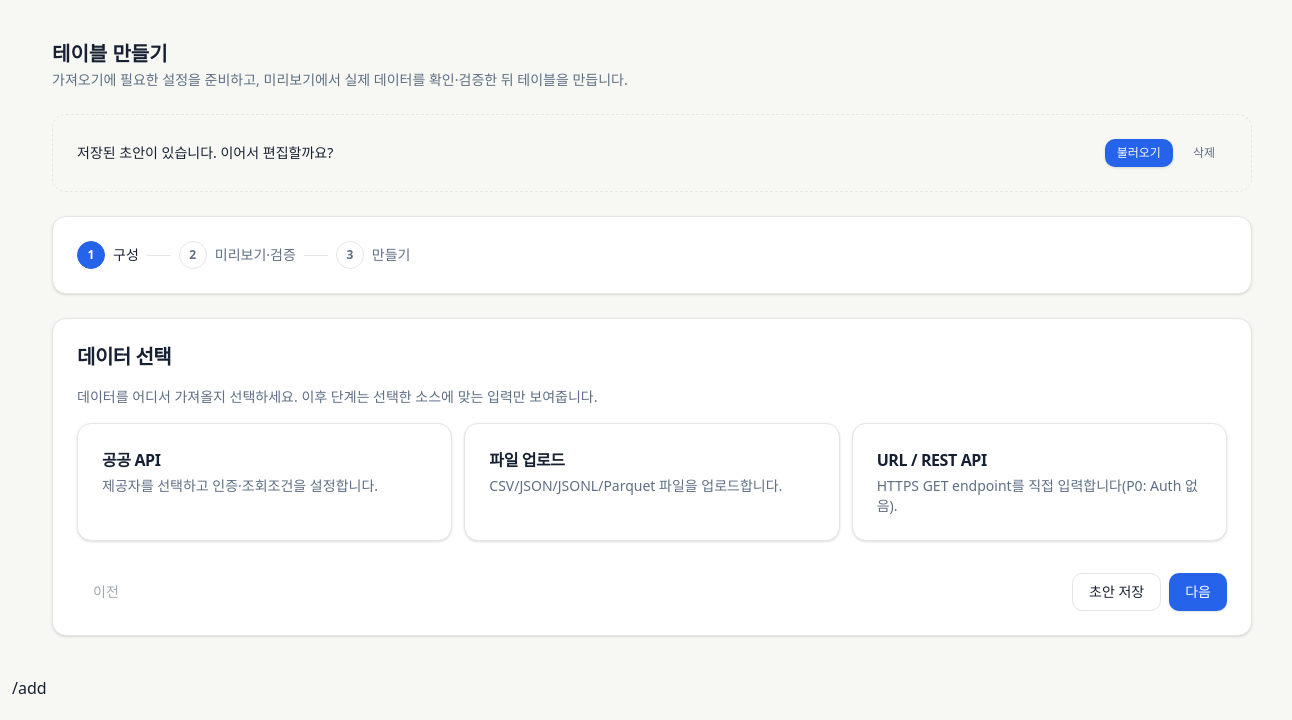
Test: one table creation flow (#534) › an Ask KPubData draft that cannot become a spec is kept, not lost (#534 review) › a partial draft: load → draft still there and error shown
The image size is (1292, 720).
Click the button "불러오기".
click(1139, 153)  # box [1105, 139, 1173, 167]
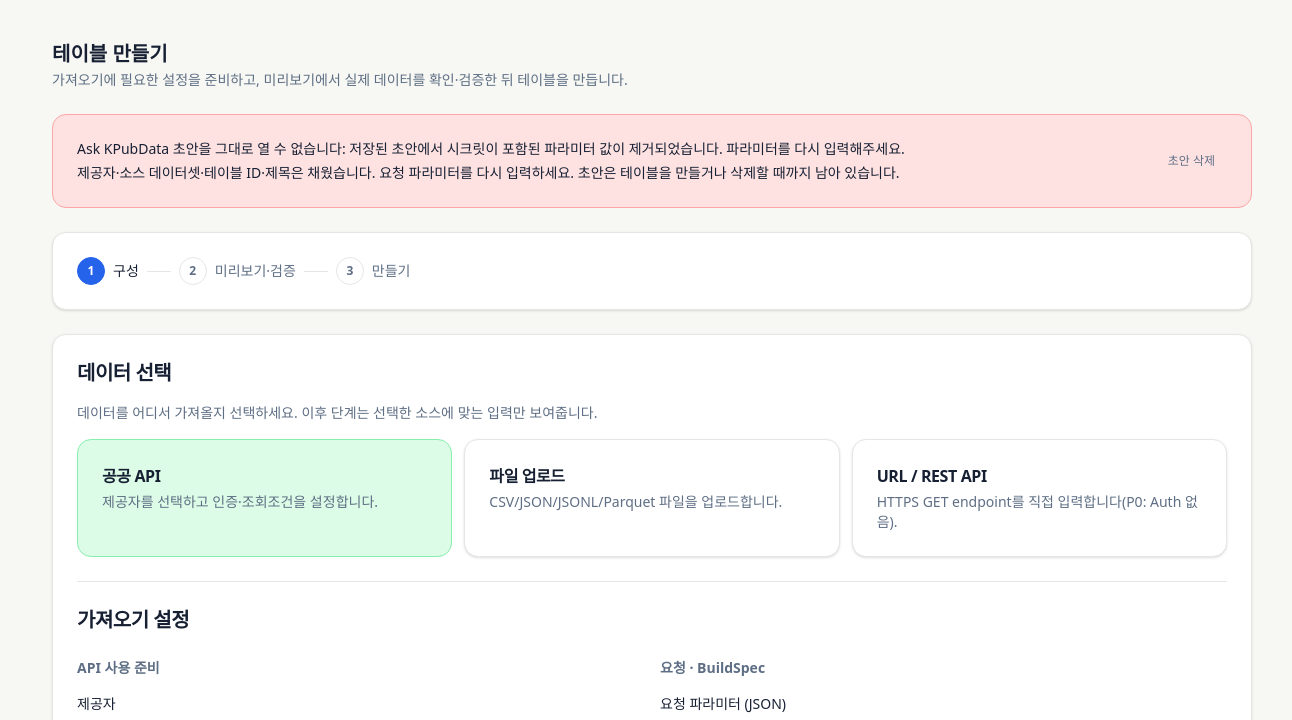
Check: the text "Ask KPubData 초안을 그대로 열 수 없습니다" shows "요청 파라미터를 다시 입력하세요", box [77, 163, 900, 182]
